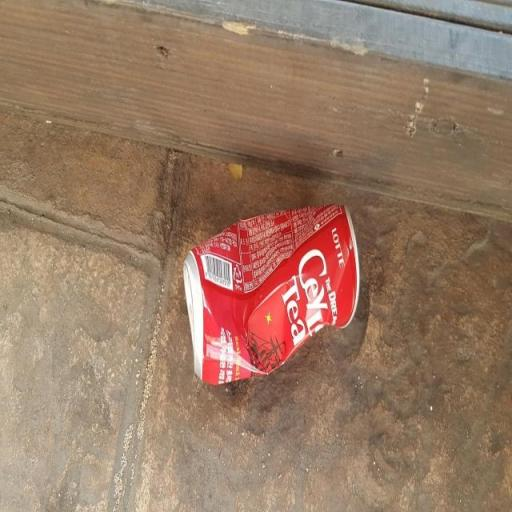metal: (171, 172, 375, 418)
